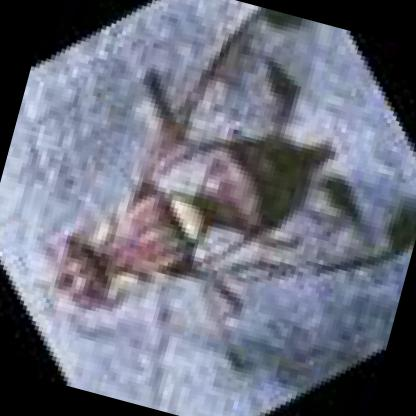fruit fly: (47, 9, 416, 316)
